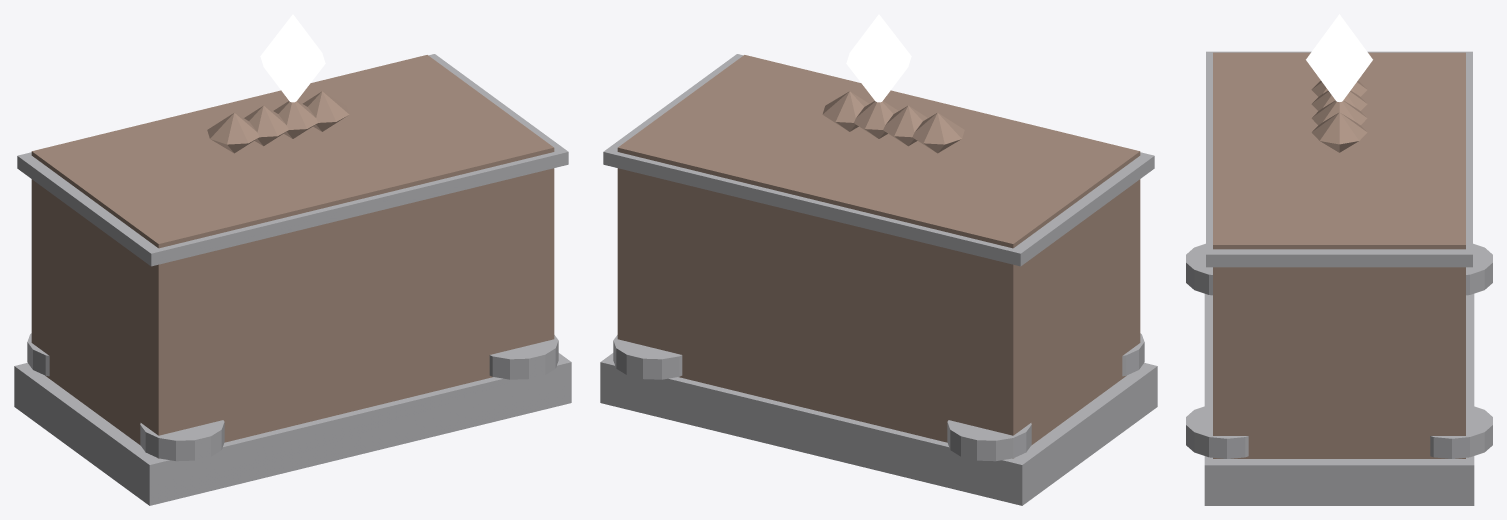
File: ore_cart_legendary.glb
3 views of the same model, side by side, from view 1: azimuth 30°, elevation 25°; view 2: azimuth 150°, elevation 25°; view 3: azimuth 270°, elevation 25° (orthographic).
Visible parts, largest first — view 1: ore_cart; view 2: ore_cart; view 3: ore_cart.
Part boxes in pixels (<box>): ore_cart: <box>14,14,571,505</box>; ore_cart: <box>600,14,1157,505</box>; ore_cart: <box>1186,14,1492,505</box>.
Bounding box in the file's own units: 1.73 × 1.53 × 1.09.
